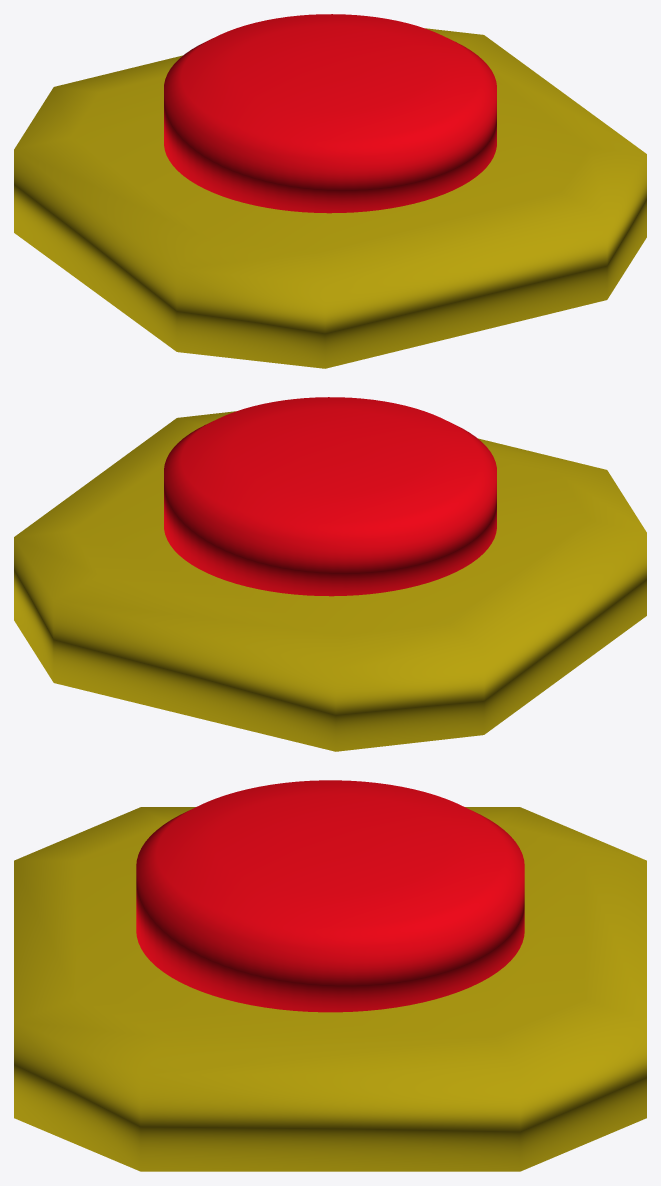
File: Button.fbx
The picture shows the model from 3 angles, top to bottom: view 1: azimuth 30°, elevation 25°; view 2: azimuth 150°, elevation 25°; view 3: azimuth 270°, elevation 25°; orthographic projection. The views are drawn at different scales.
Parts seen in each view (by area): view 1: Plate, Button; view 2: Plate, Button; view 3: Plate, Button.
Part boxes in pixels (<box>): Plate: <box>14,28,646,368</box>; Button: <box>164,14,496,213</box>; Plate: <box>14,411,646,751</box>; Button: <box>164,397,496,596</box>; Plate: <box>14,807,646,1171</box>; Button: <box>136,780,524,1012</box>.
Bounding box in the file's own units: 200 × 68.78 × 200.
